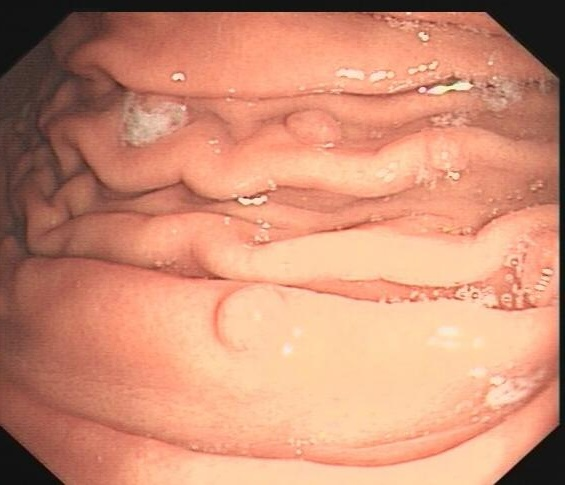Polyp: (212, 280, 296, 355)
